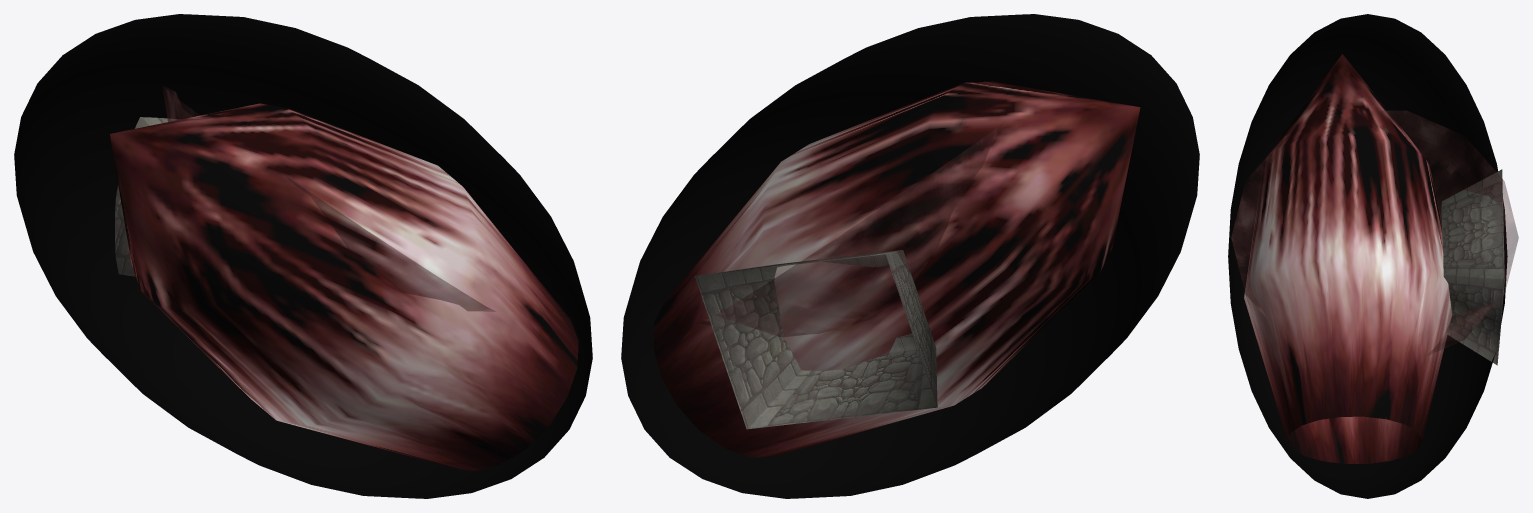
The picture shows the model from 3 angles, left to right: view 1: azimuth 30°, elevation 25°; view 2: azimuth 150°, elevation 25°; view 3: azimuth 270°, elevation 25°; orthographic projection. The views are drawn at different scales.
Visible parts, largest first — view 1: Cylinder02, "Editable Poly", "Editable Mesh", M630:1; view 2: Cylinder02, "Editable Poly", M630:1, "Editable Mesh"; view 3: Cylinder02, "Editable Poly", M630:1, "Editable Mesh".
Boxes of the visible parts, x1=… form: Cylinder02: x1=110, y1=103, x2=578, y2=471; "Editable Poly": x1=14, y1=14, x2=592, y2=498; "Editable Mesh": x1=162, y1=85, x2=495, y2=311; M630:1: x1=115, y1=117, x2=179, y2=276; Cylinder02: x1=653, y1=81, x2=1140, y2=457; "Editable Poly": x1=621, y1=14, x2=1199, y2=498; M630:1: x1=695, y1=250, x2=937, y2=429; "Editable Mesh": x1=699, y1=123, x2=1003, y2=336; Cylinder02: x1=1244, y1=54, x2=1451, y2=464; "Editable Poly": x1=1228, y1=14, x2=1507, y2=498; M630:1: x1=1440, y1=169, x2=1504, y2=365; "Editable Mesh": x1=1231, y1=111, x2=1518, y2=356.
Bounding box in the file's own units: 22.61 × 20.68 × 15.04.
